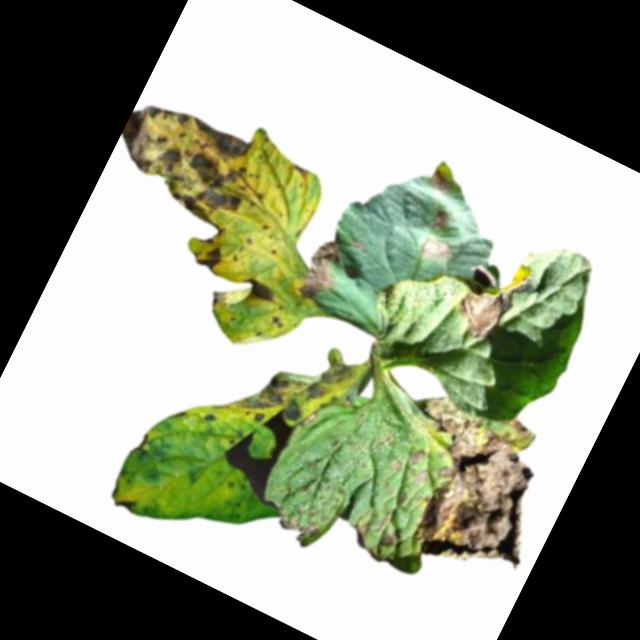Early_blight: (362, 379, 577, 595), (102, 90, 269, 236), (224, 321, 359, 452), (444, 247, 536, 354), (292, 233, 351, 309), (265, 498, 323, 552), (193, 240, 233, 279), (236, 272, 279, 308), (420, 234, 454, 264), (427, 168, 455, 197), (110, 491, 140, 517), (427, 207, 453, 233), (265, 312, 287, 333)
